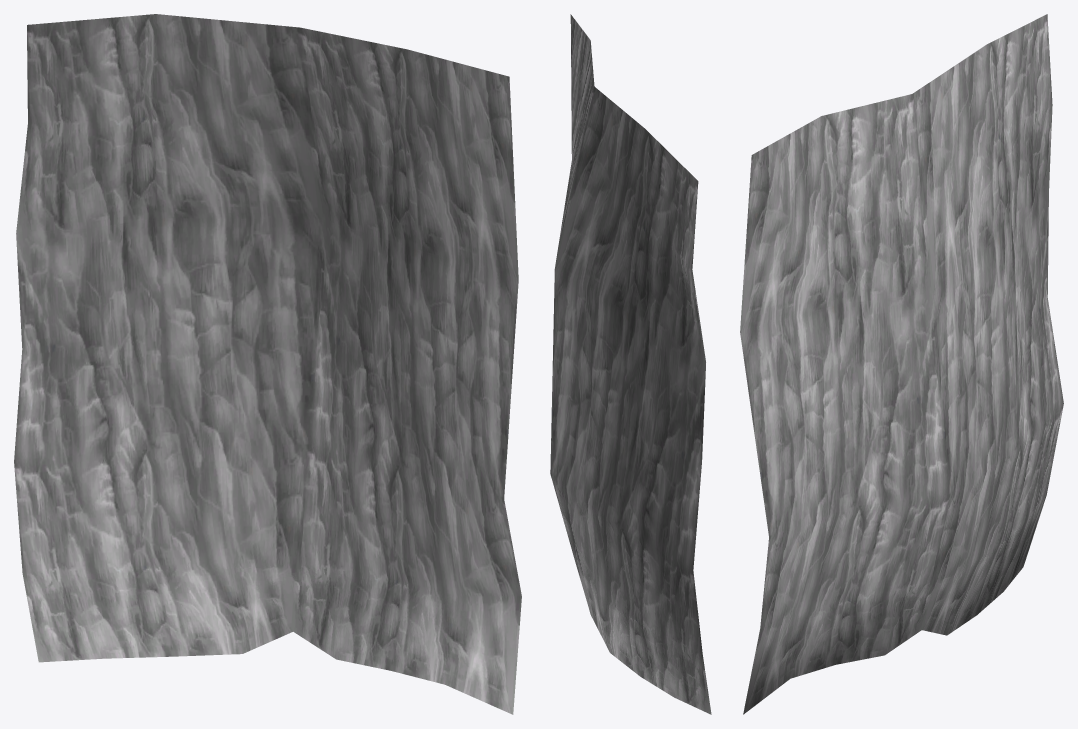
Rendered from SWORDLIGHT20_PS-AREA03_205.fbx.
The picture shows the model from 3 angles, left to right: view 1: azimuth 30°, elevation 25°; view 2: azimuth 150°, elevation 25°; view 3: azimuth 270°, elevation 25°; orthographic projection. The views are drawn at different scales.
Visible parts, largest first — view 1: SWORDLIGHT20_PS-AREA03_205; view 2: SWORDLIGHT20_PS-AREA03_205; view 3: SWORDLIGHT20_PS-AREA03_205.
Boxes of the visible parts, x1,y1,x2,y2 form: SWORDLIGHT20_PS-AREA03_205: (14, 14, 521, 714); SWORDLIGHT20_PS-AREA03_205: (550, 14, 711, 714); SWORDLIGHT20_PS-AREA03_205: (740, 14, 1063, 714).
Bounding box in the file's own units: 81174 × 147963 × 75304.
Materials: 1 (1 with a texture image).
